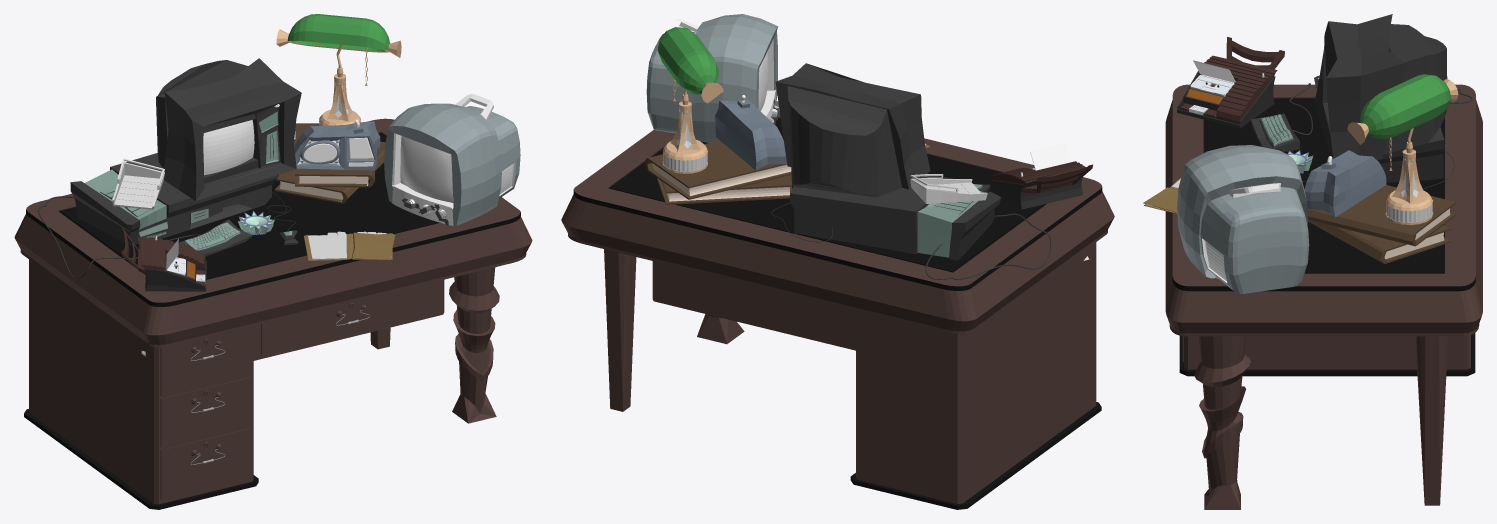
The model's file is escena exportar.fbx.
3 renders of one model, left to right at view 1: azimuth 30°, elevation 25°; view 2: azimuth 150°, elevation 25°; view 3: azimuth 270°, elevation 25°, orthographic. The views are drawn at different scales.
Visible parts, largest first — view 1: mesa, monitor, tele, gabinete, cajon, luz lampara, telefono, libro cerrado.002, reloj, vidrio tele, vidrio monitor, archivero (+5 smaller); view 2: mesa, monitor, gabinete, tele, libro cerrado.002, reloj, telefono, luz lampara, lampara, archivero, vidrio telefono; view 3: mesa, tele, monitor, libro cerrado.002, telefono, luz lampara, reloj, lampara, gabinete, teclado, cassette, carpeta (+1 smaller).
Part boxes in pixels (<box>): mesa: <box>14,118,532,509</box>; monitor: <box>156,58,301,200</box>; tele: <box>384,94,520,226</box>; gabinete: <box>70,153,278,245</box>; cajon: <box>160,327,251,396</box>; luz lampara: <box>276,14,401,57</box>; telefono: <box>121,227,206,291</box>; libro cerrado.002: <box>274,123,385,203</box>; reloj: <box>294,121,380,170</box>; vidrio tele: <box>400,136,452,202</box>; vidrio monitor: <box>203,120,254,175</box>; archivero: <box>112,158,164,209</box>; mesa: <box>561,111,1114,509</box>; monitor: <box>775,63,930,197</box>; gabinete: <box>790,176,1000,260</box>; tele: <box>646,14,779,142</box>; libro cerrado.002: <box>645,140,792,204</box>; reloj: <box>715,99,786,170</box>; telefono: <box>990,161,1092,209</box>; luz lampara: <box>657,27,723,103</box>; lampara: <box>662,89,707,173</box>; archivero: <box>910,174,987,203</box>; vidrio telefono: <box>1030,142,1070,170</box>; mesa: <box>1165,84,1482,509</box>; tele: <box>1177,145,1309,293</box>; monitor: <box>1314,14,1447,159</box>; libro cerrado.002: <box>1307,185,1455,263</box>; telefono: <box>1177,37,1284,128</box>; luz lampara: <box>1347,74,1458,144</box>; reloj: <box>1304,150,1386,217</box>; lampara: <box>1385,128,1433,224</box>; gabinete: <box>1314,75,1444,182</box>; teclado: <box>1250,113,1299,151</box>; cassette: <box>1190,74,1234,96</box>; carpeta: <box>1143,187,1177,213</box>.
Size of the model in its own units: 156 by 129 by 102.
